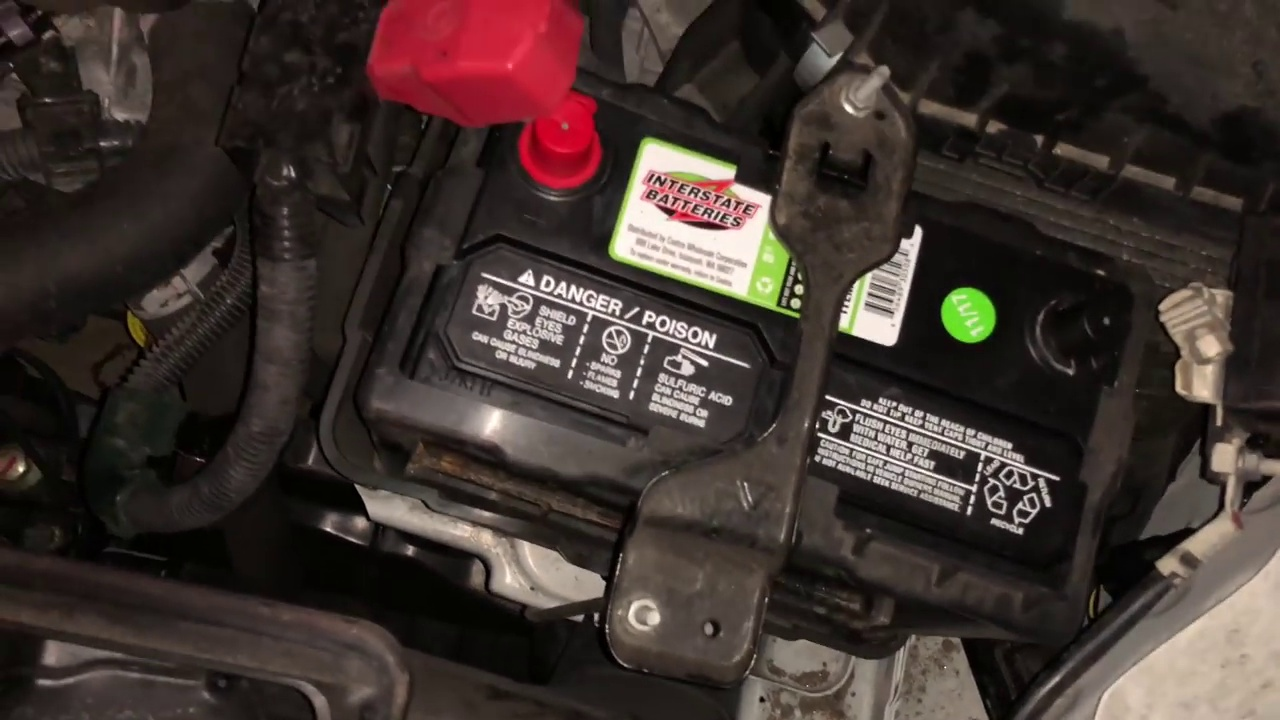battery: (397, 33, 1145, 623)
pos_disconnected: (377, 8, 625, 211)
